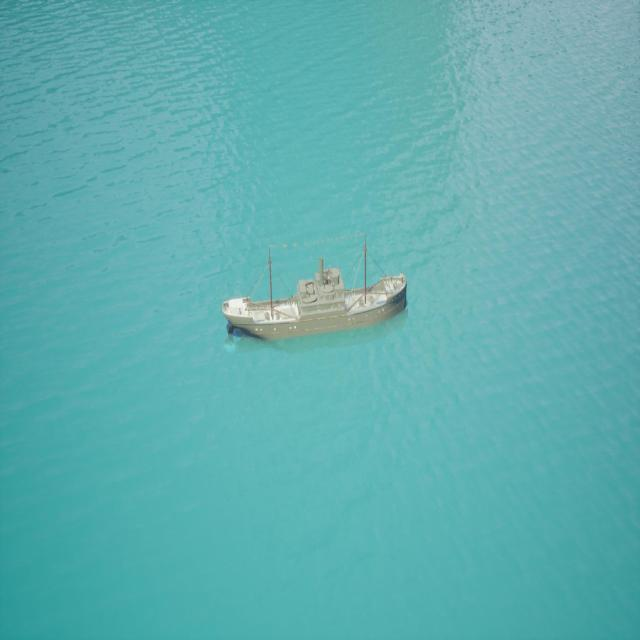fishing ship: (223, 246, 409, 345)
